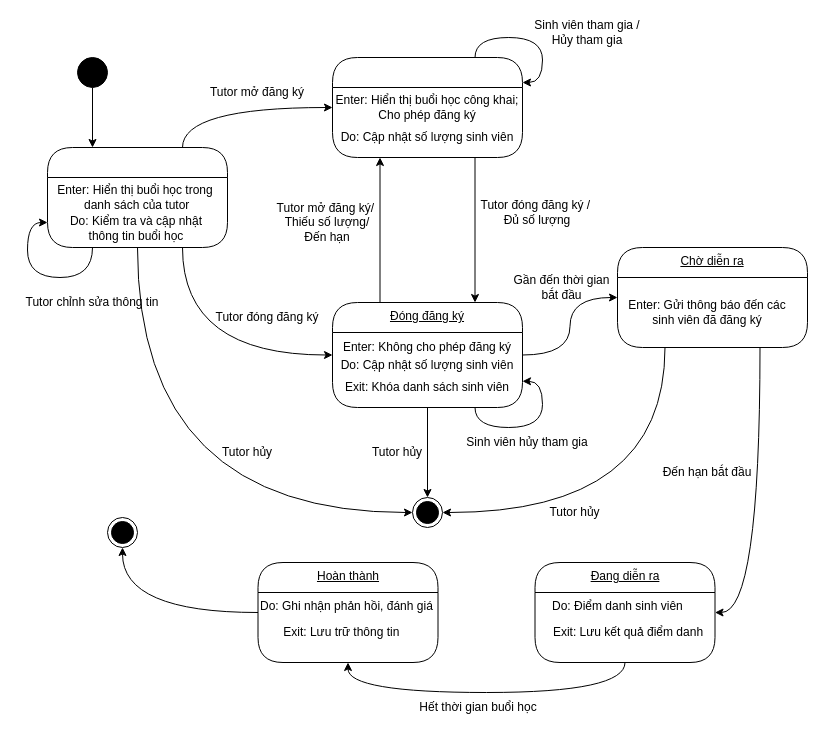
Some shapes in this 825 by 739 pixel diagram are drawn without their labels. The box of each missing label's shape, as (x1, y1, x2, y2) in pixels:
Khởi tạo buổi học: (46, 146, 228, 248)
Mở đăng ký: (332, 56, 522, 158)
